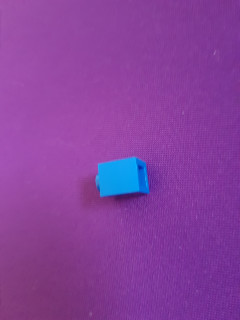1x1 blue: (95, 156, 150, 199)
